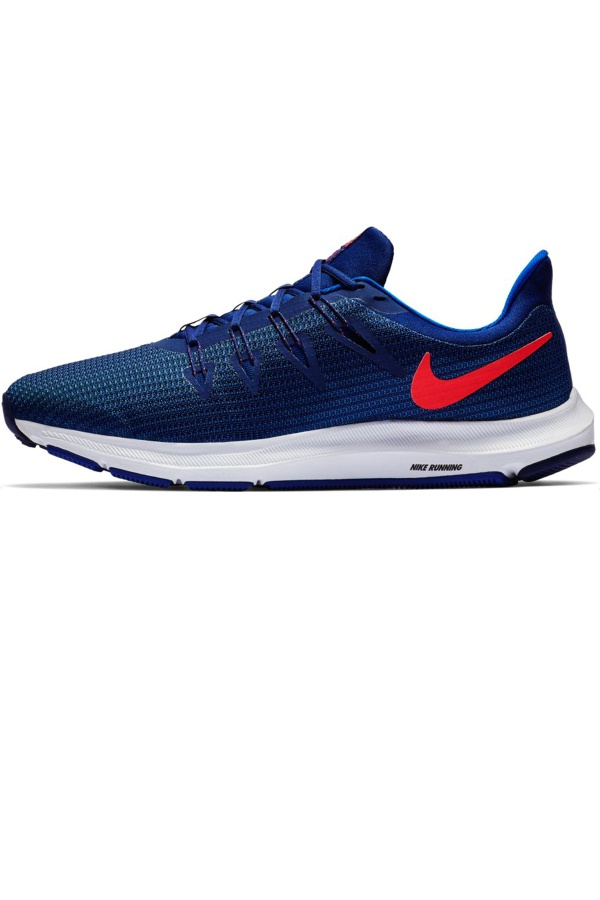nike: (402, 332, 559, 415)
